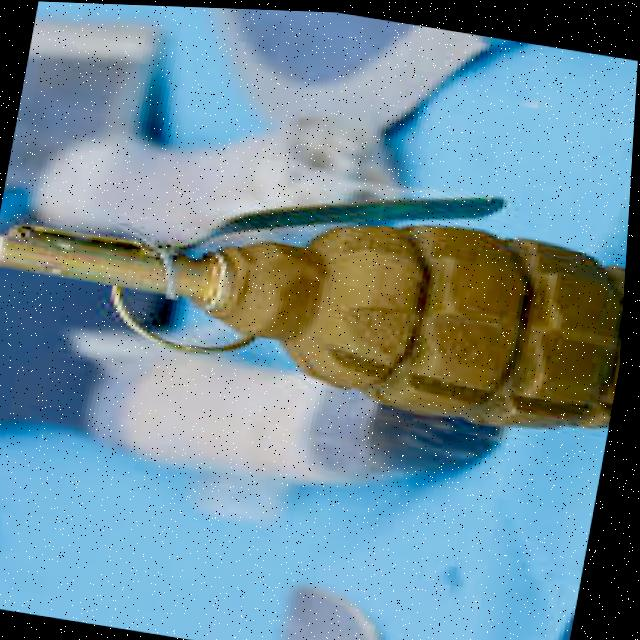grenade: (0, 115, 635, 440)
